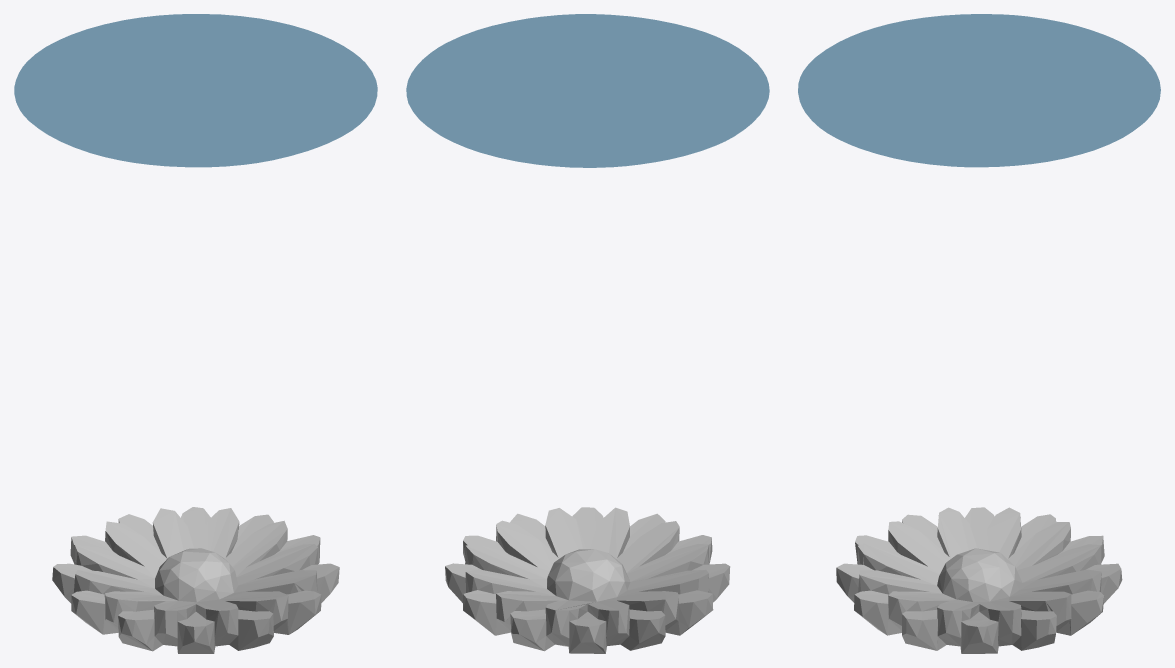
File: init.glb
The picture shows the model from 3 angles, left to right: view 1: azimuth 30°, elevation 25°; view 2: azimuth 150°, elevation 25°; view 3: azimuth 270°, elevation 25°; orthographic projection.
Visible parts, largest first — view 1: world, object.obj; view 2: world, object.obj; view 3: world, object.obj.
Part boxes in pixels (x1,y1,x2,y2): world: (14, 14, 377, 167); object.obj: (52, 507, 339, 653); world: (406, 14, 769, 167); object.obj: (445, 507, 730, 653); world: (798, 14, 1160, 167); object.obj: (836, 507, 1122, 653).
Bounding box in the file's own units: 0.6395 × 0.9993 × 0.6395.
